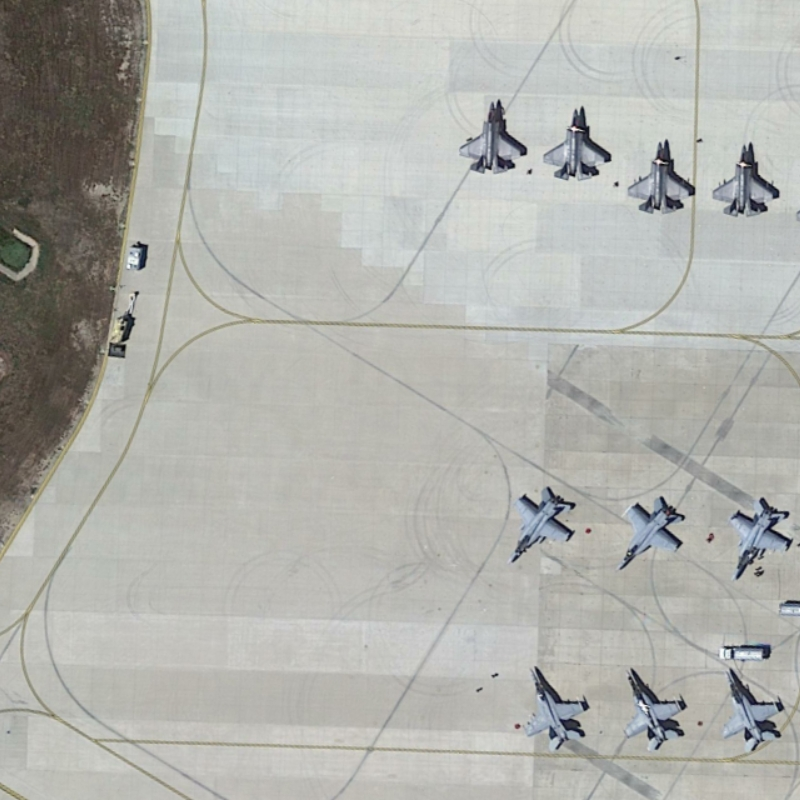A15: (706, 139, 785, 222), (538, 100, 614, 183), (454, 95, 529, 178), (622, 137, 699, 217)
A16: (505, 479, 579, 568), (719, 664, 789, 755), (726, 496, 796, 585), (524, 660, 590, 754), (615, 490, 689, 572), (622, 662, 688, 751)
